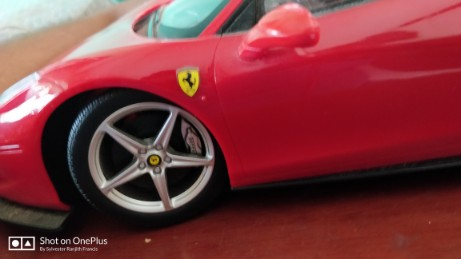unaligned_wheel: (46, 80, 238, 231)
